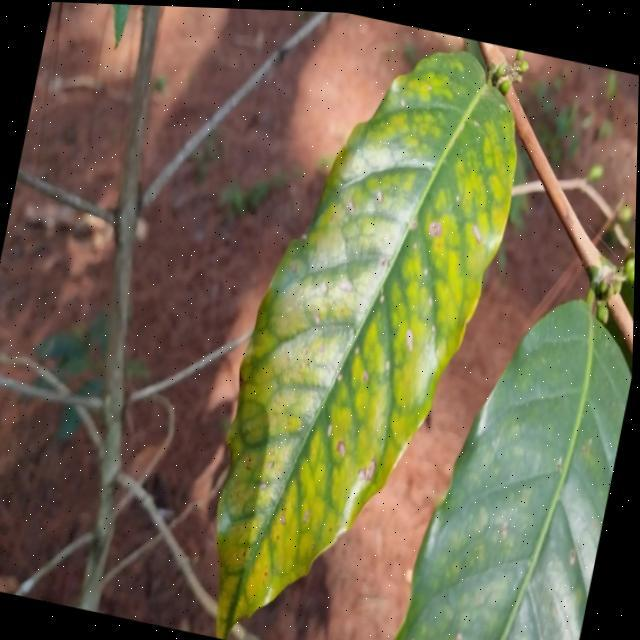leaves: (124, 19, 575, 640), (399, 281, 640, 640)
